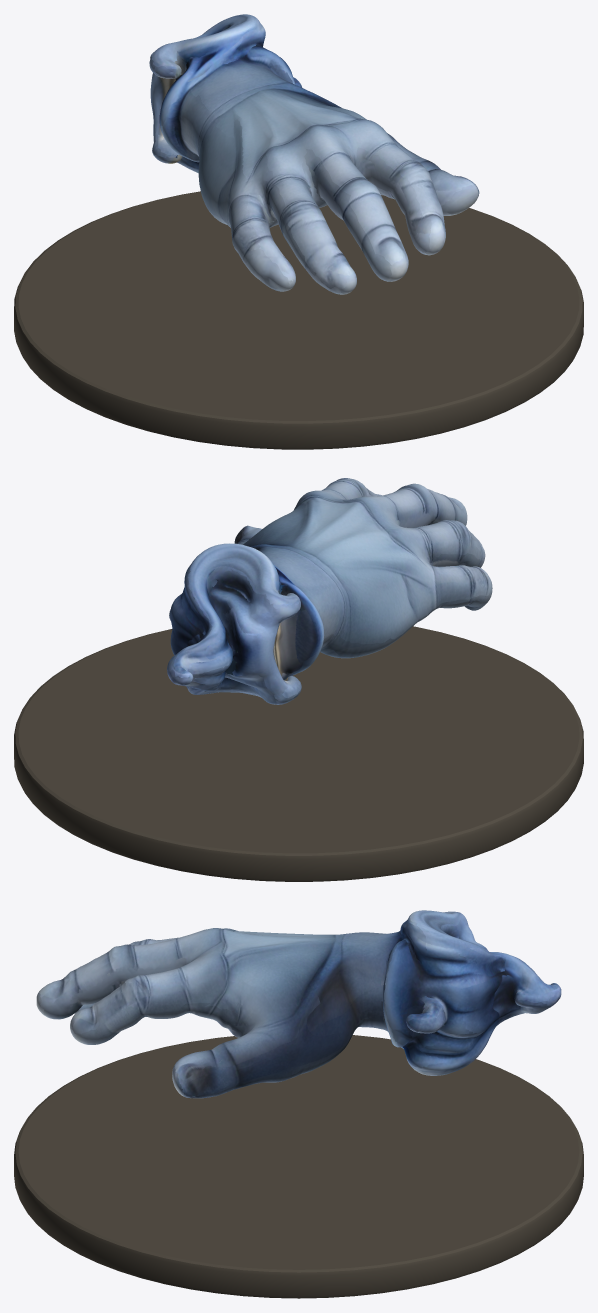
File: mage-hand.glb
3 renders of one model, top to bottom at view 1: azimuth 30°, elevation 25°; view 2: azimuth 150°, elevation 25°; view 3: azimuth 270°, elevation 25°, orthographic.
Visible parts, largest first — view 1: mage-hand_round_base, mage-hand_body; view 2: mage-hand_round_base, mage-hand_body; view 3: mage-hand_round_base, mage-hand_body.
Part boxes in pixels (x1,y1,x2,y2): mage-hand_round_base: [14, 191, 583, 449]; mage-hand_body: [149, 14, 479, 294]; mage-hand_round_base: [14, 626, 583, 881]; mage-hand_body: [167, 478, 492, 704]; mage-hand_round_base: [14, 1035, 583, 1298]; mage-hand_body: [36, 910, 561, 1098].
Bounding box in the file's own units: 1 × 0.5053 × 1.
Materials: 2 (1 with a texture image).
